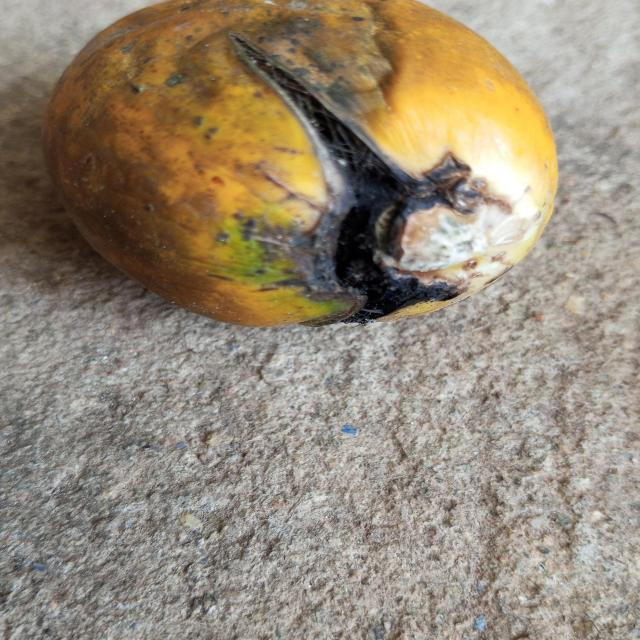damaged: (42, 0, 559, 329)
